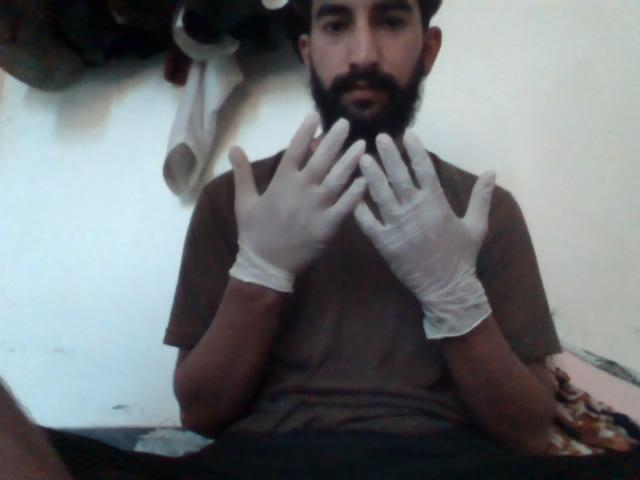gloves: (377, 107, 514, 342), (209, 117, 365, 291)
